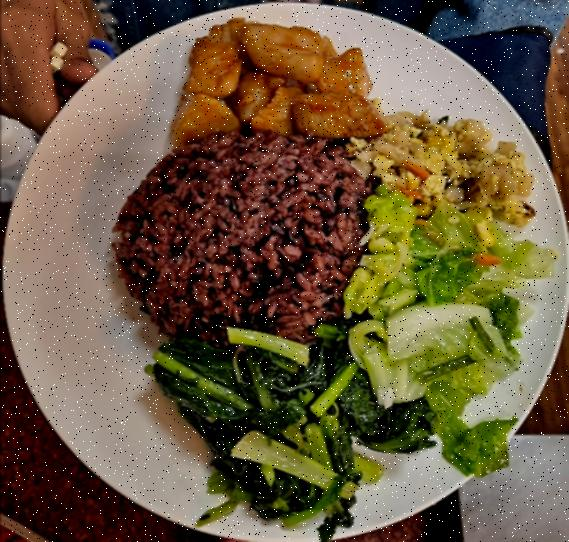plate: (5, 10, 563, 542)
purple rice: (100, 134, 362, 340)
side dish: (152, 341, 396, 526), (364, 206, 528, 440), (352, 114, 534, 211)
spicy chicken: (142, 13, 392, 153)
